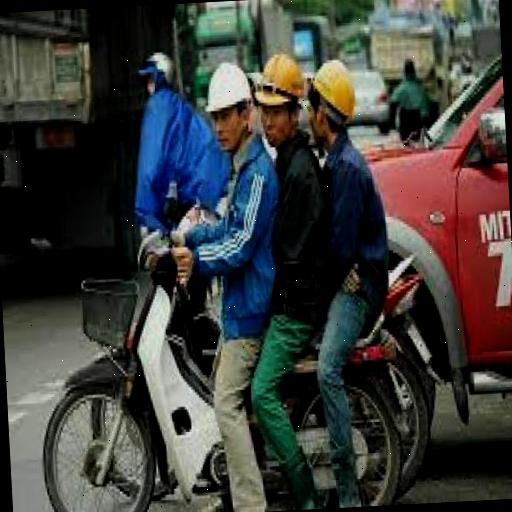helmet: (206, 55, 254, 153)
triple riding: (15, 39, 418, 512)
